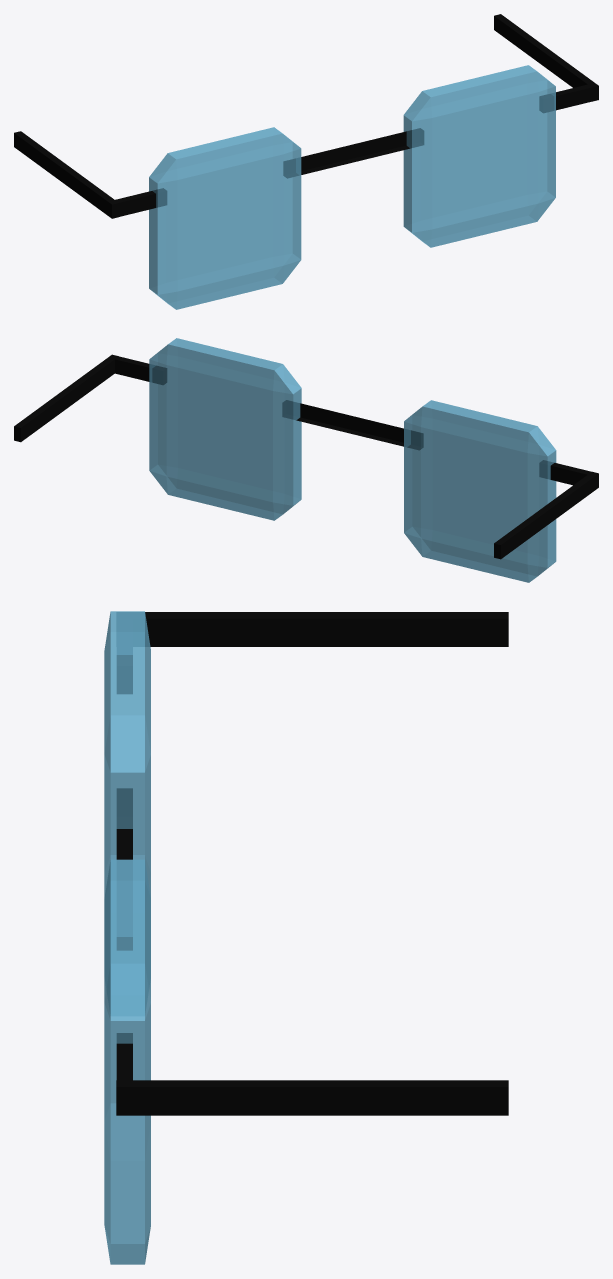
The model's file is BlueSunglasses.fbx.
3 renders of one model, top to bottom at view 1: azimuth 30°, elevation 25°; view 2: azimuth 150°, elevation 25°; view 3: azimuth 270°, elevation 25°, orthographic. The views are drawn at different scales.
Parts seen in each view (by area): view 1: oh.001, oh.003, Cube.007; view 2: oh.001, oh.003, Cube.007; view 3: Cube.007, oh.001, oh.003.
Boxes of the visible parts, <box> form: oh.001: <box>403,65,555,247</box>; oh.003: <box>149,127,301,309</box>; Cube.007: <box>14,14,598,218</box>; oh.001: <box>149,338,301,520</box>; oh.003: <box>404,400,556,582</box>; Cube.007: <box>14,354,598,559</box>; Cube.007: <box>116,612,508,1115</box>; oh.001: <box>104,859,150,1264</box>; oh.003: <box>104,611,150,898</box>.
Size of the model in its own units: 398 by 117 by 143.
